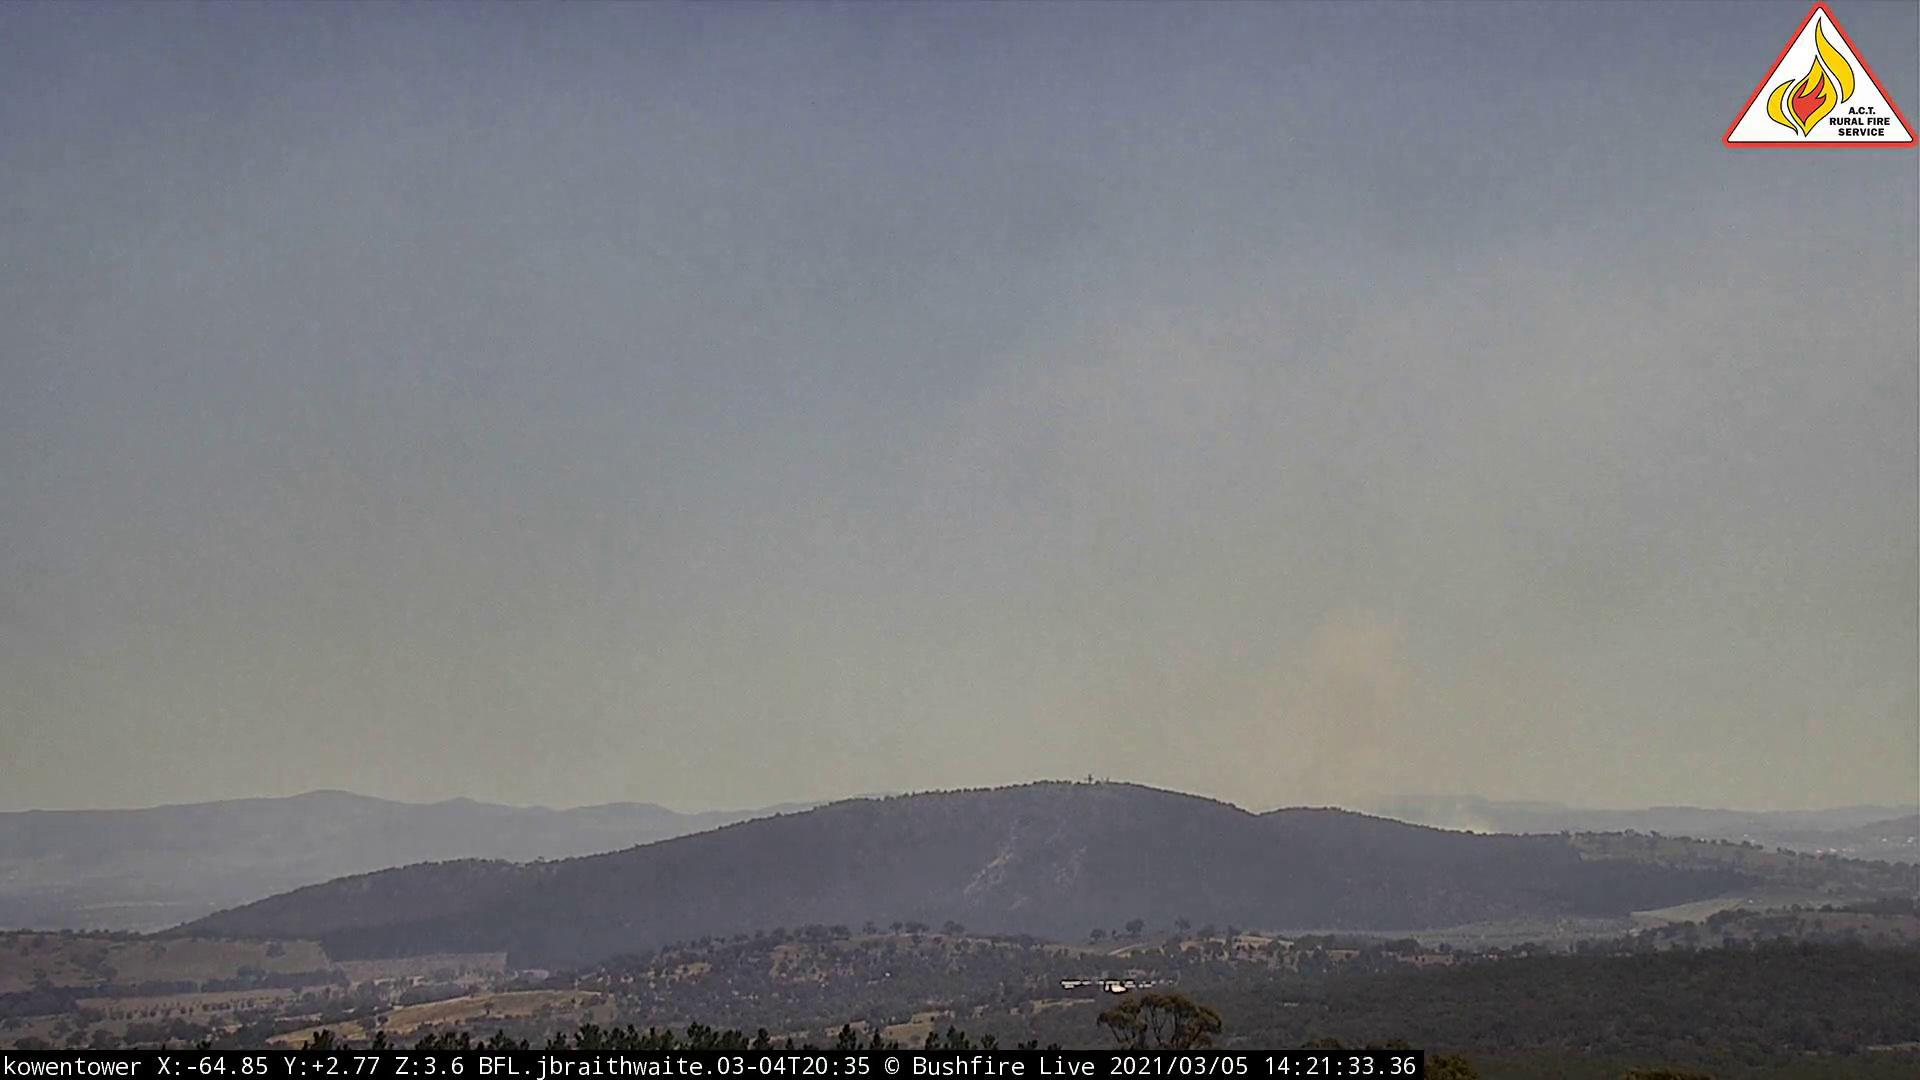Smoke: (1211, 535, 1577, 837)
